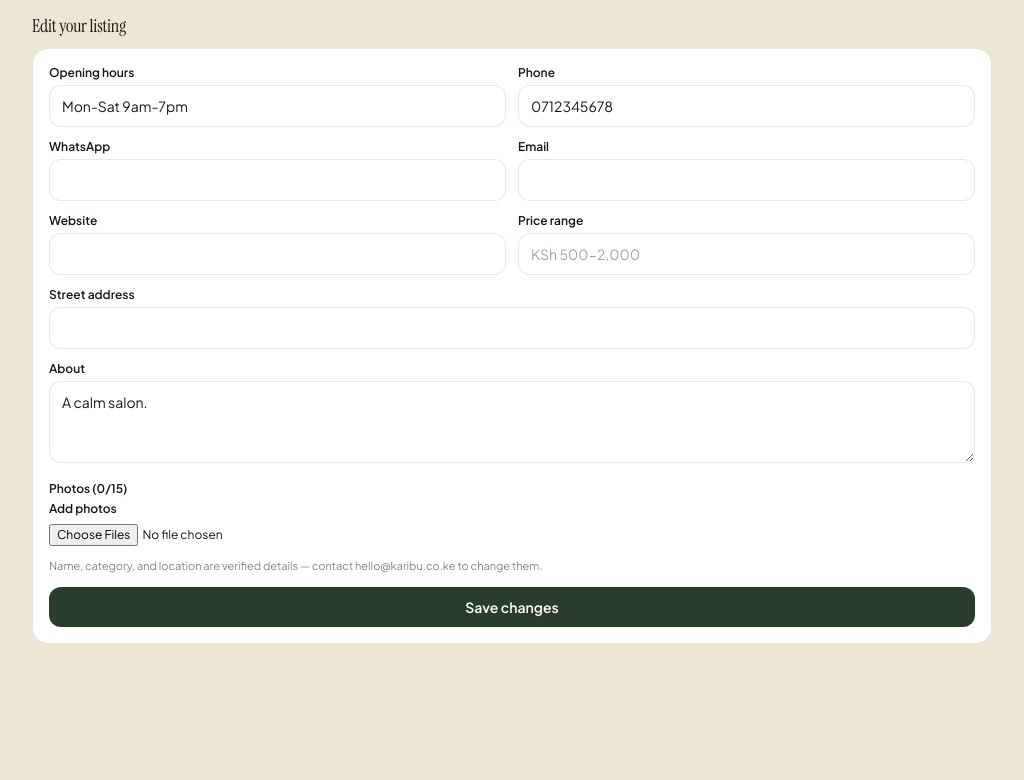
Scenario: save sends only granted fields and reports success
Replace the text in the field labelled "Phone" with "0722000000". click: (746, 106)
box: [518,85,975,127]
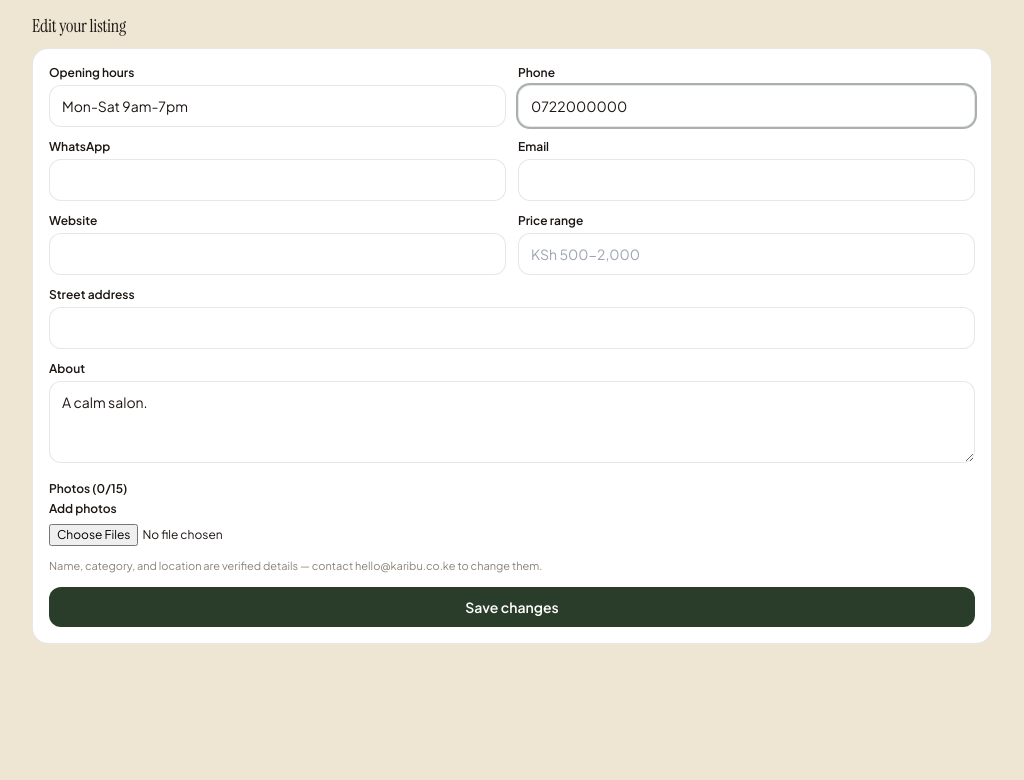
Click the button "Save changes". click: (512, 606)
box: [49,586,975,626]
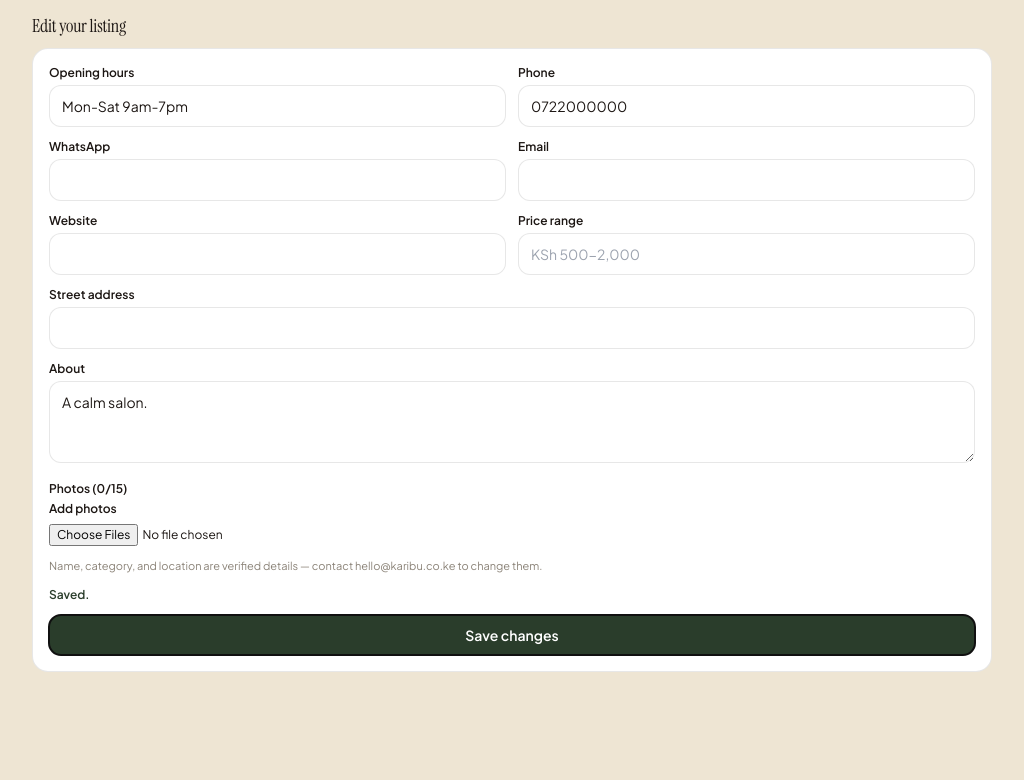
Check: the text "Saved." is shown, box [49,586,90,602]
